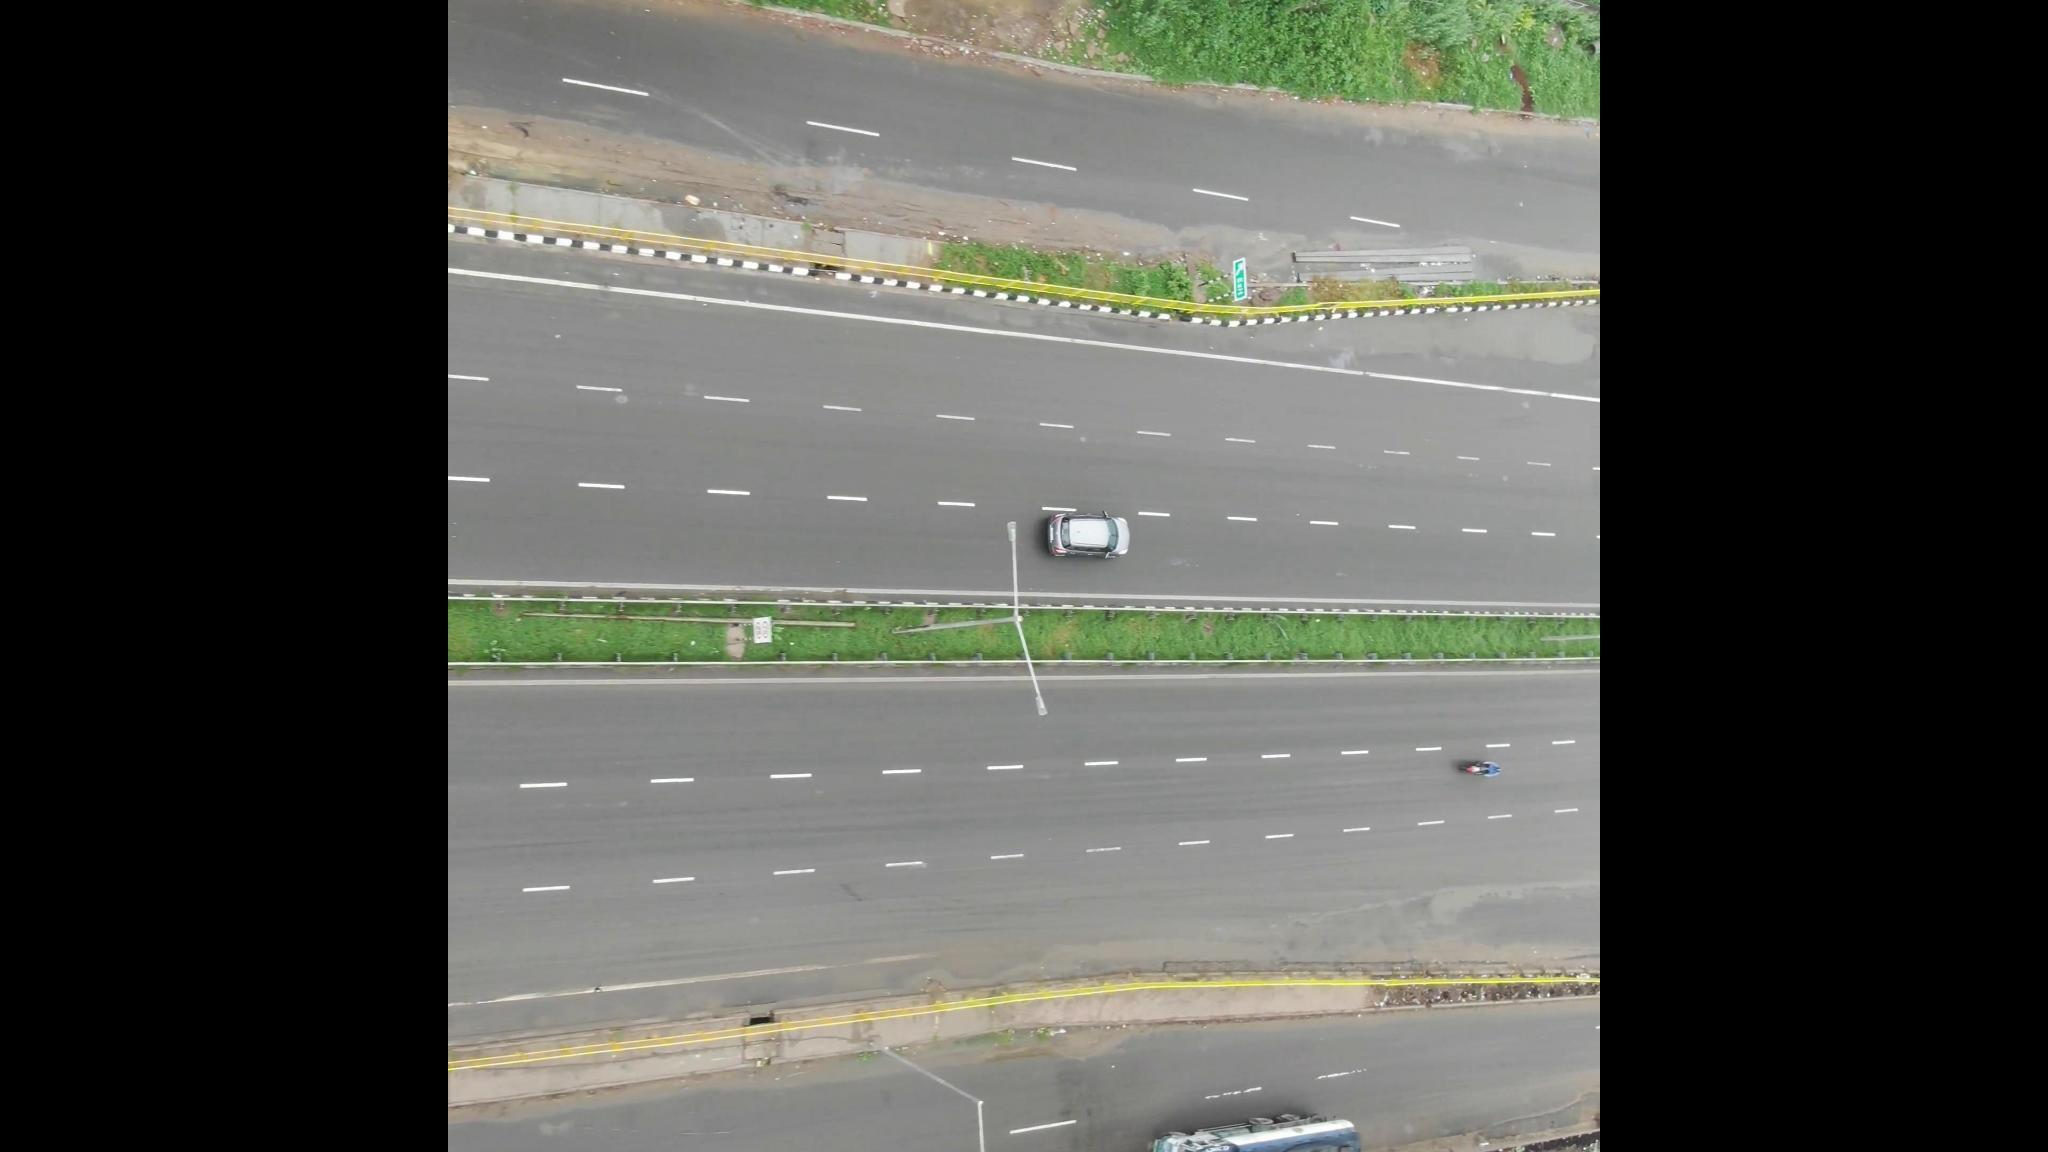Muddy_road: (464, 107, 730, 211)
